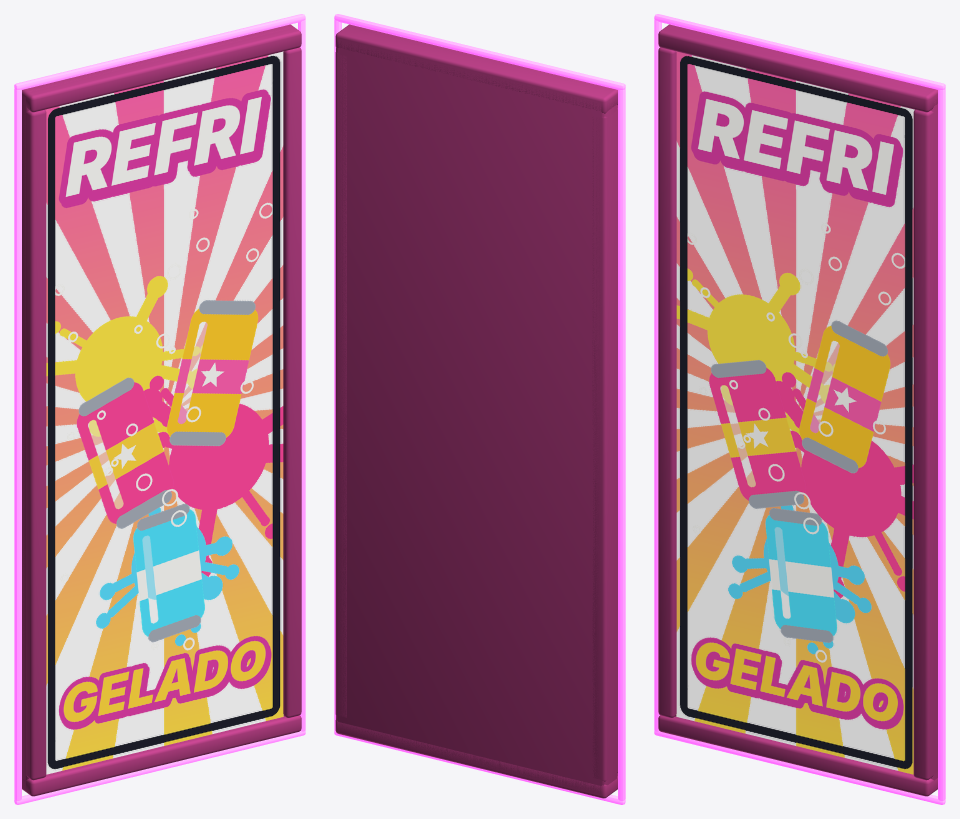
File: totem_refri_gelado.glb
3 views of the same model, side by side, from view 1: azimuth 30°, elevation 25°; view 2: azimuth 150°, elevation 25°; view 3: azimuth 330°, elevation 25° (orthographic).
Visible parts, largest first — view 1: totem_refri_gelado; view 2: totem_refri_gelado; view 3: totem_refri_gelado.
Boxes of the visible parts, box(x1,y1,x2,y2) form: totem_refri_gelado: box(14, 14, 305, 804); totem_refri_gelado: box(334, 14, 625, 804); totem_refri_gelado: box(654, 14, 945, 804).
Size of the model in its own units: 3.64 by 8.64 by 0.38.
Materials: 3 (2 with a texture image).
